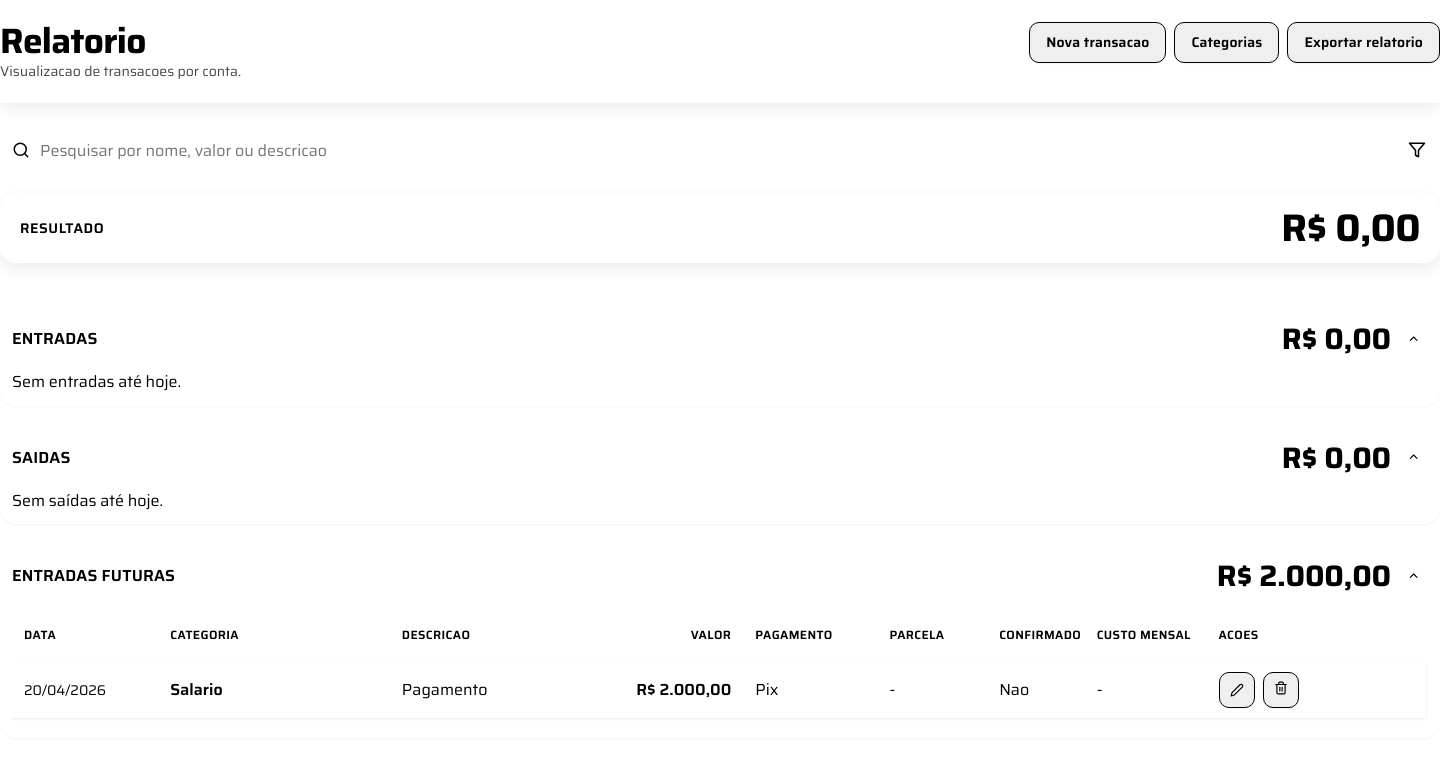
Report › mostra feedback de validacao ao criar transacao com valor invalido
Check: the heading "Entradas" is shown, box x1=12 y1=329 x2=98 y2=348
Click the button "Nova transacao": (1098, 43) x1=1029 y1=22 x2=1166 y2=63
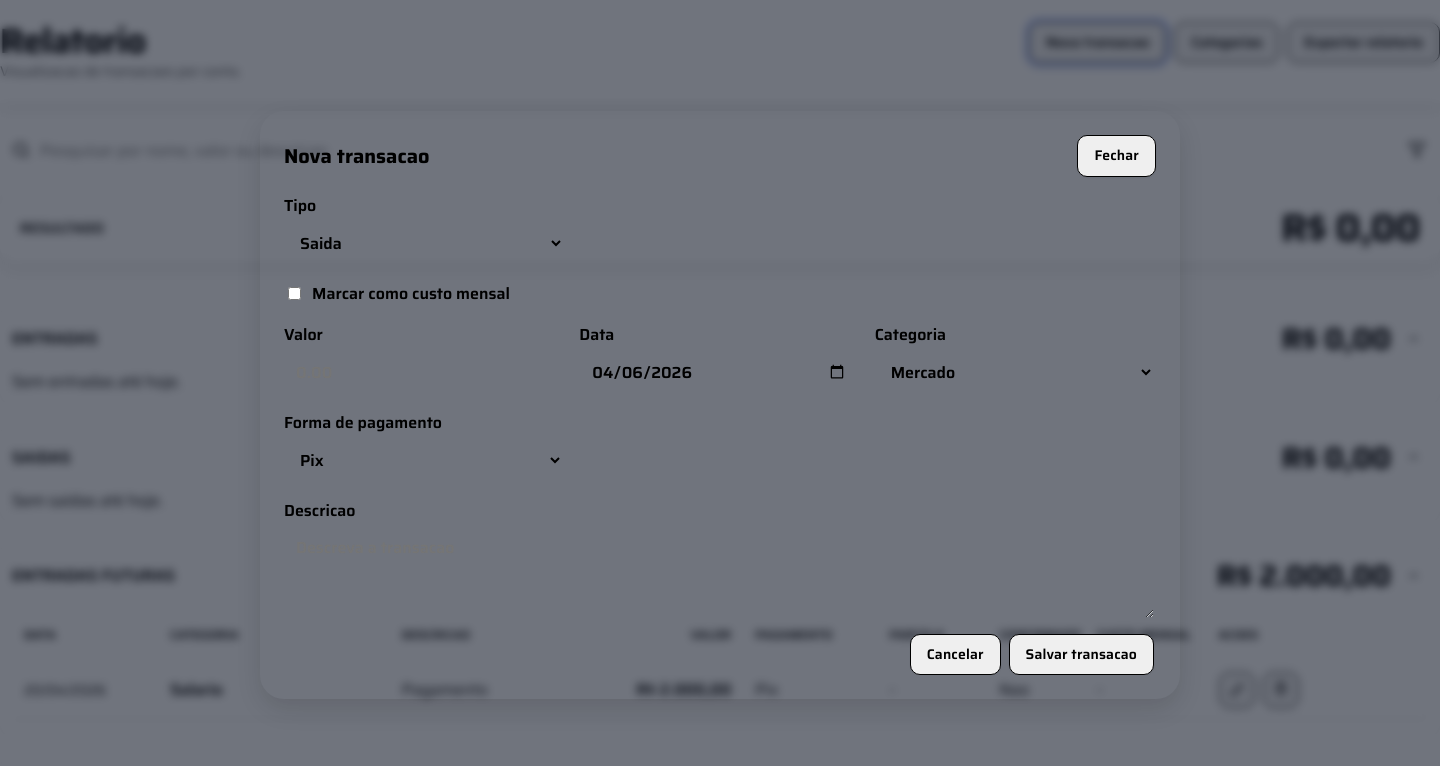
Click the button "Salvar transacao": (1081, 654) x1=1009 y1=634 x2=1154 y2=675
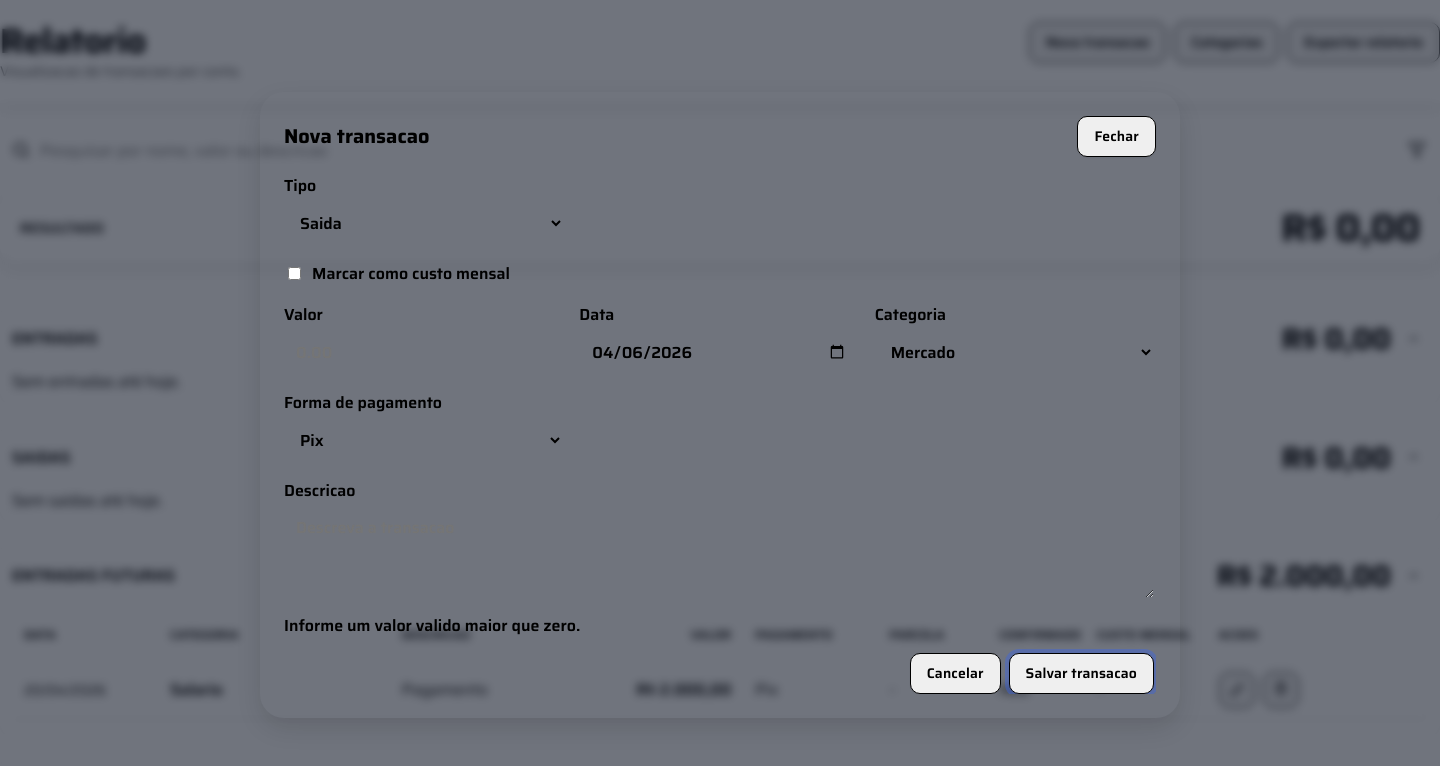
Check: the text "Informe um valor valido maior que zero." is shown, box x1=284 y1=613 x2=580 y2=638
